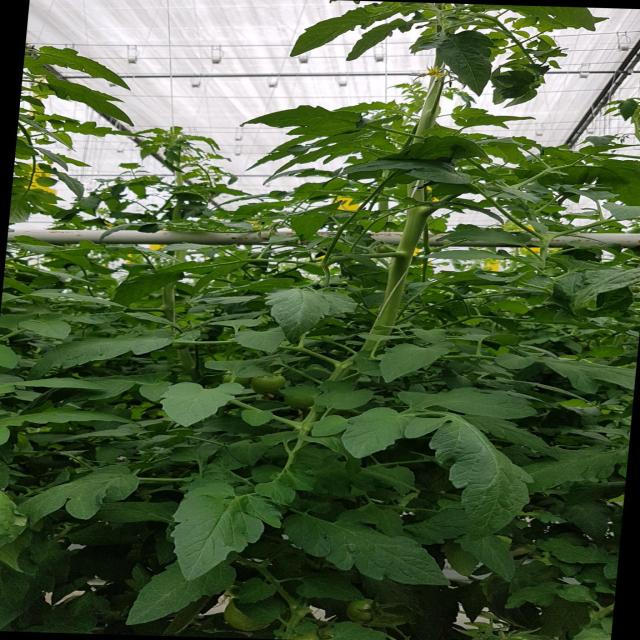Healthy Leaf: (262, 503, 464, 595), (422, 414, 555, 541), (162, 477, 277, 582), (15, 457, 169, 532), (26, 326, 187, 376), (155, 370, 254, 432), (252, 285, 331, 341), (436, 30, 499, 96), (345, 406, 419, 461), (366, 340, 452, 385)
